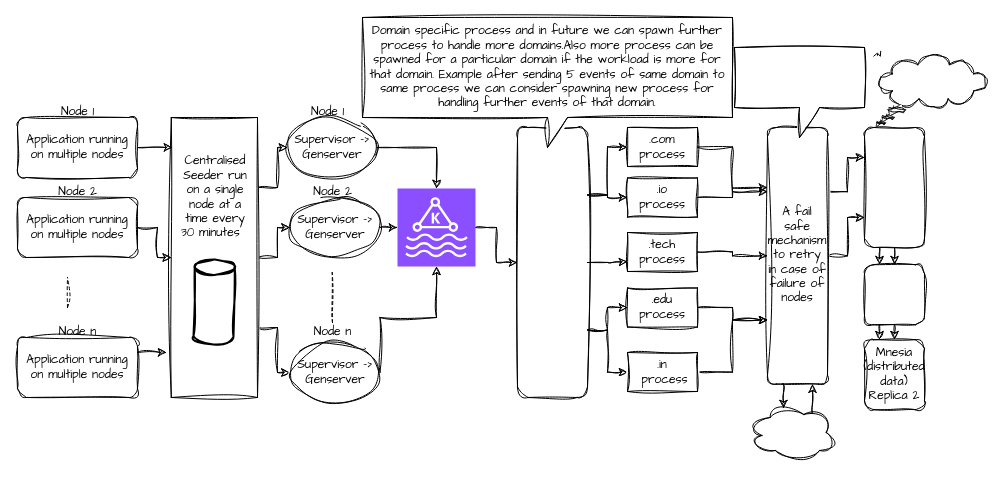
The diagram is 1005 pixels wide and 480 high, and some of its shapes have lost their labels. Here are the shapes that lost their labels. From the top down, the centre of each, then its label:
At [799,92]: "Consistency test mechanism will be implemented here once sync process is done".
At [932,89]: "Sync process triggers".
At [894,187]: "Mnesia (distributed data)".
At [552,262]: "Centralised Dynamic Supervisor".
At [213,301]: "url domain".
At [894,294]: "Mnesia (distributed data) Replica 1".
At [792,432]: "send failures to redis".
